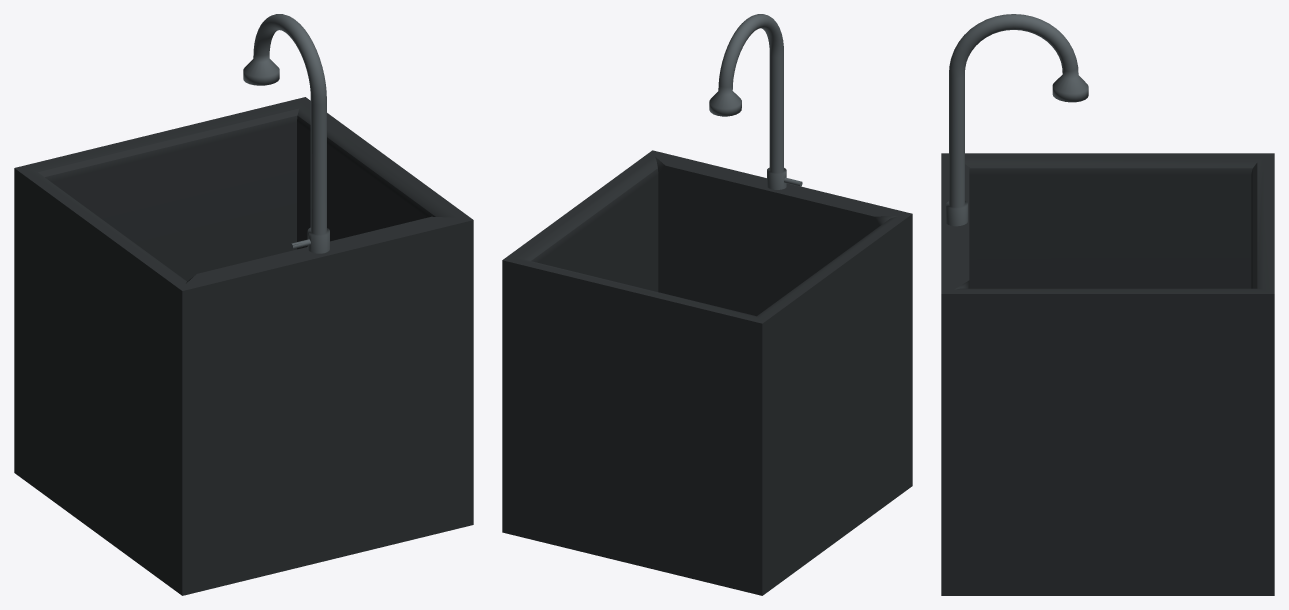
The model's file is Sink Model.fbx.
3 renders of one model, left to right at view 1: azimuth 30°, elevation 25°; view 2: azimuth 150°, elevation 25°; view 3: azimuth 270°, elevation 25°, orthographic. The views are drawn at different scales.
Visible parts, largest first — view 1: Sink_Main; view 2: Sink_Main; view 3: Sink_Main.
Boxes of the visible parts, x1=… form: Sink_Main: x1=14, y1=14, x2=473, y2=595; Sink_Main: x1=502, y1=14, x2=912, y2=595; Sink_Main: x1=941, y1=14, x2=1274, y2=595.
Bounding box in the file's own units: 14.96 × 25.3 × 14.96.
1 material, 1 textured.
